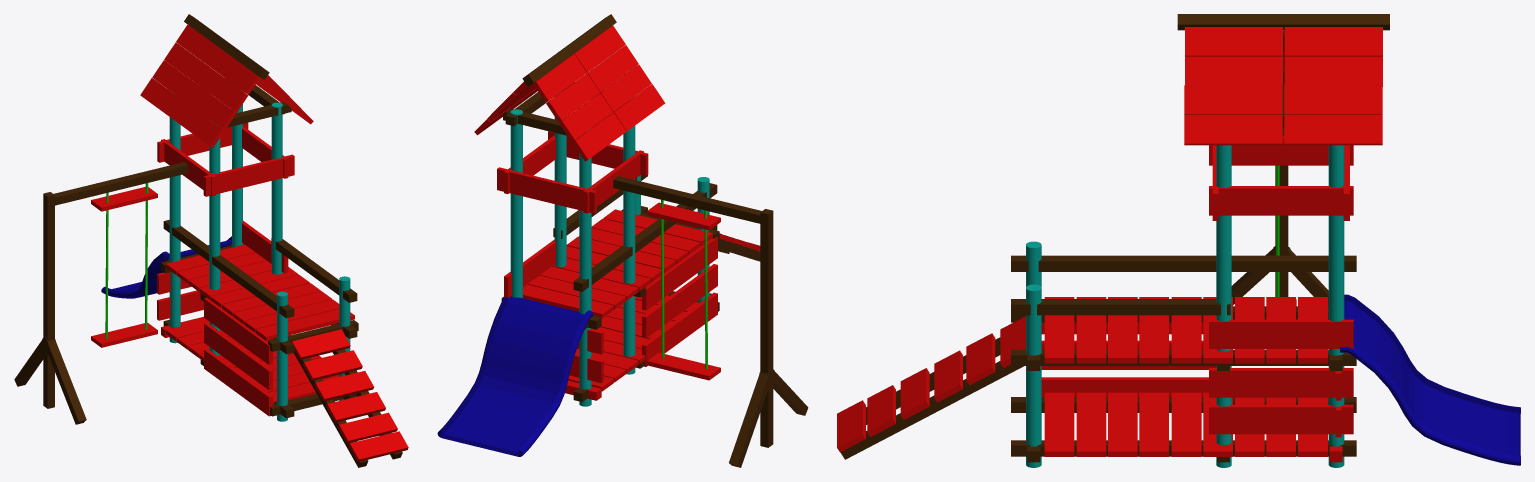
File: Columpio_Full.FBX
The picture shows the model from 3 angles, left to right: view 1: azimuth 30°, elevation 25°; view 2: azimuth 150°, elevation 25°; view 3: azimuth 270°, elevation 25°; orthographic projection. The views are drawn at different scales.
Parts seen in each view (by area): view 1: Line002; view 2: Line002; view 3: Line002.
Part boxes in pixels (x1,y1,x2,y2): Line002: (14, 14, 408, 467); Line002: (437, 14, 808, 467); Line002: (837, 14, 1520, 467).
Bounding box in the file's own units: 640 × 839 × 1148.
